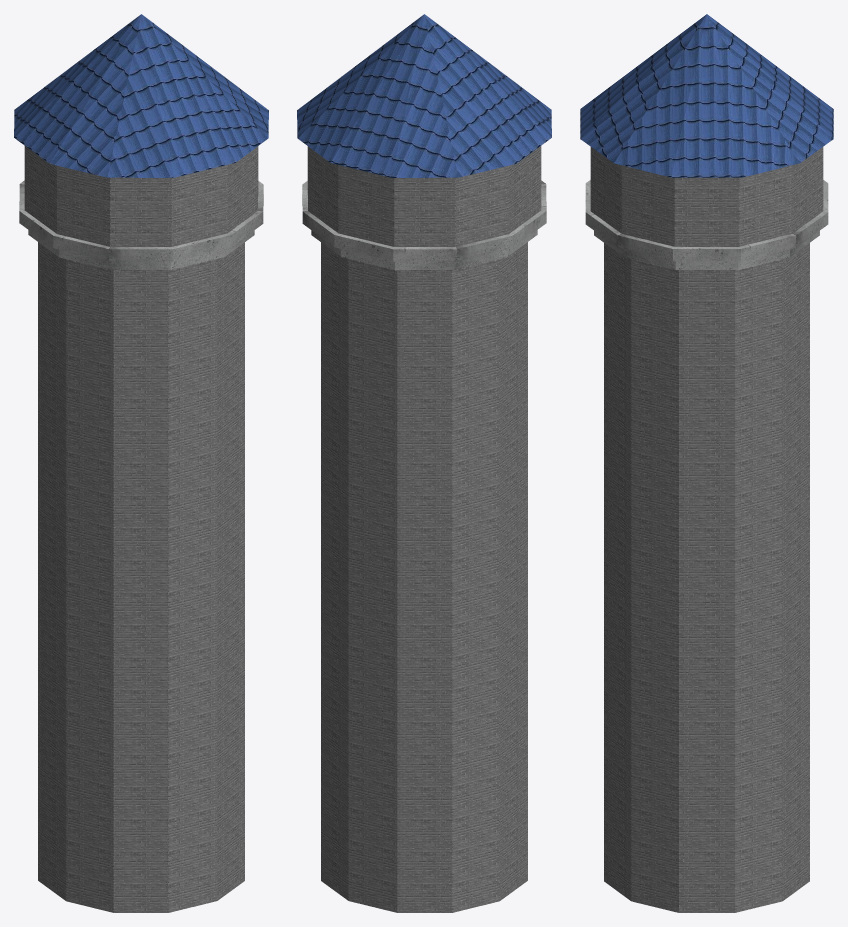
File: Roundroof.fbx
3 views of the same model, side by side, from view 1: azimuth 30°, elevation 25°; view 2: azimuth 150°, elevation 25°; view 3: azimuth 270°, elevation 25° (orthographic).
Parts seen in each view (by area): view 1: Roundroof; view 2: Roundroof; view 3: Roundroof.
Part boxes in pixels (<box>): Roundroof: <box>14,14,268,912</box>; Roundroof: <box>297,14,551,912</box>; Roundroof: <box>580,14,833,912</box>.
Bounding box in the file's own units: 1168 × 4352 × 1168.
